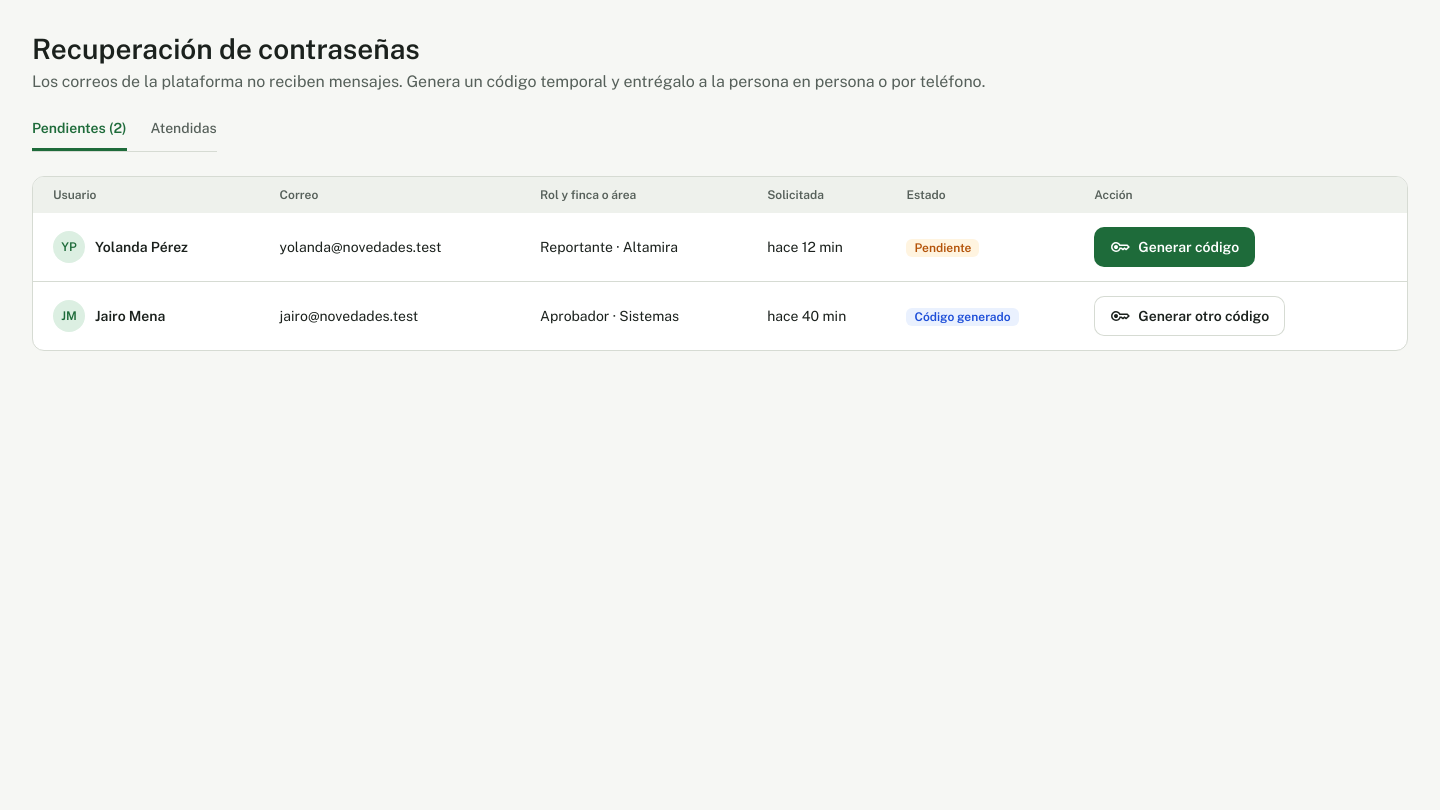
Test case: Pantalla 32 · Generar el código temporal (RF-02 / CU-02 6 y 7) › RF-02 / CU-02 6: genera el código de esa solicitud y lo muestra una sola vez, como en Figma
Expected: the text "Yolanda Pérez" is shown, [95,237,188,257]
Click the button with aria-label "Generar código para Yolanda Pérez".
click(1175, 247)  # box [1094,227,1255,267]
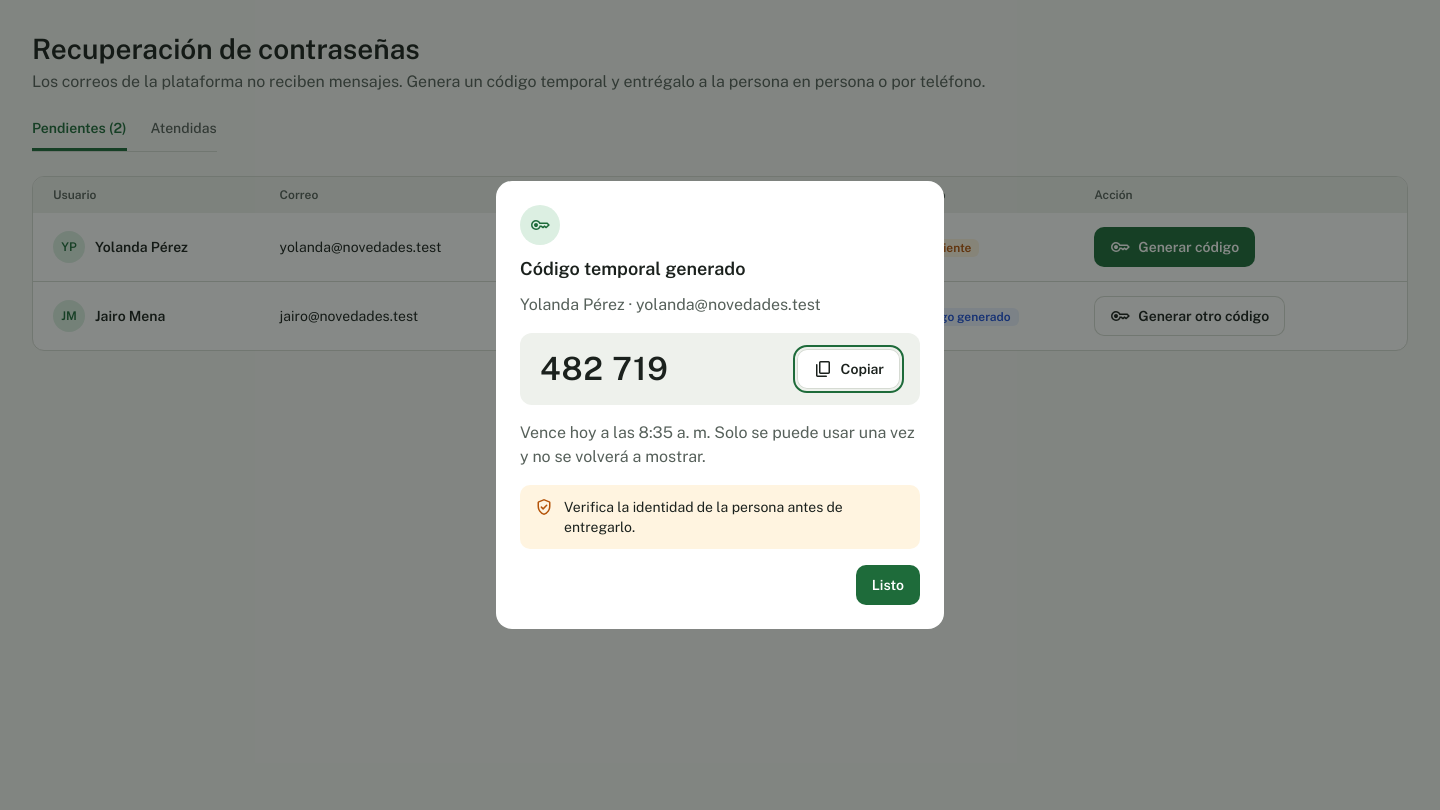
Expected: the dialog "Código temporal generado" is shown, [496,181,944,629]
Expected: the text "Yolanda Pérez · yolanda@novedades.test" is shown, [520,295,821,314]
Expected: the text "482 719" is shown, [540,350,669,387]
